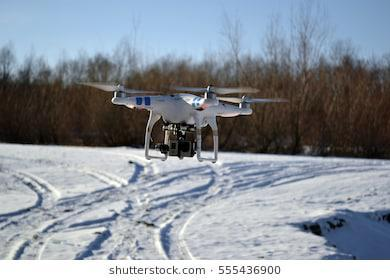drone: (65, 64, 292, 168)
